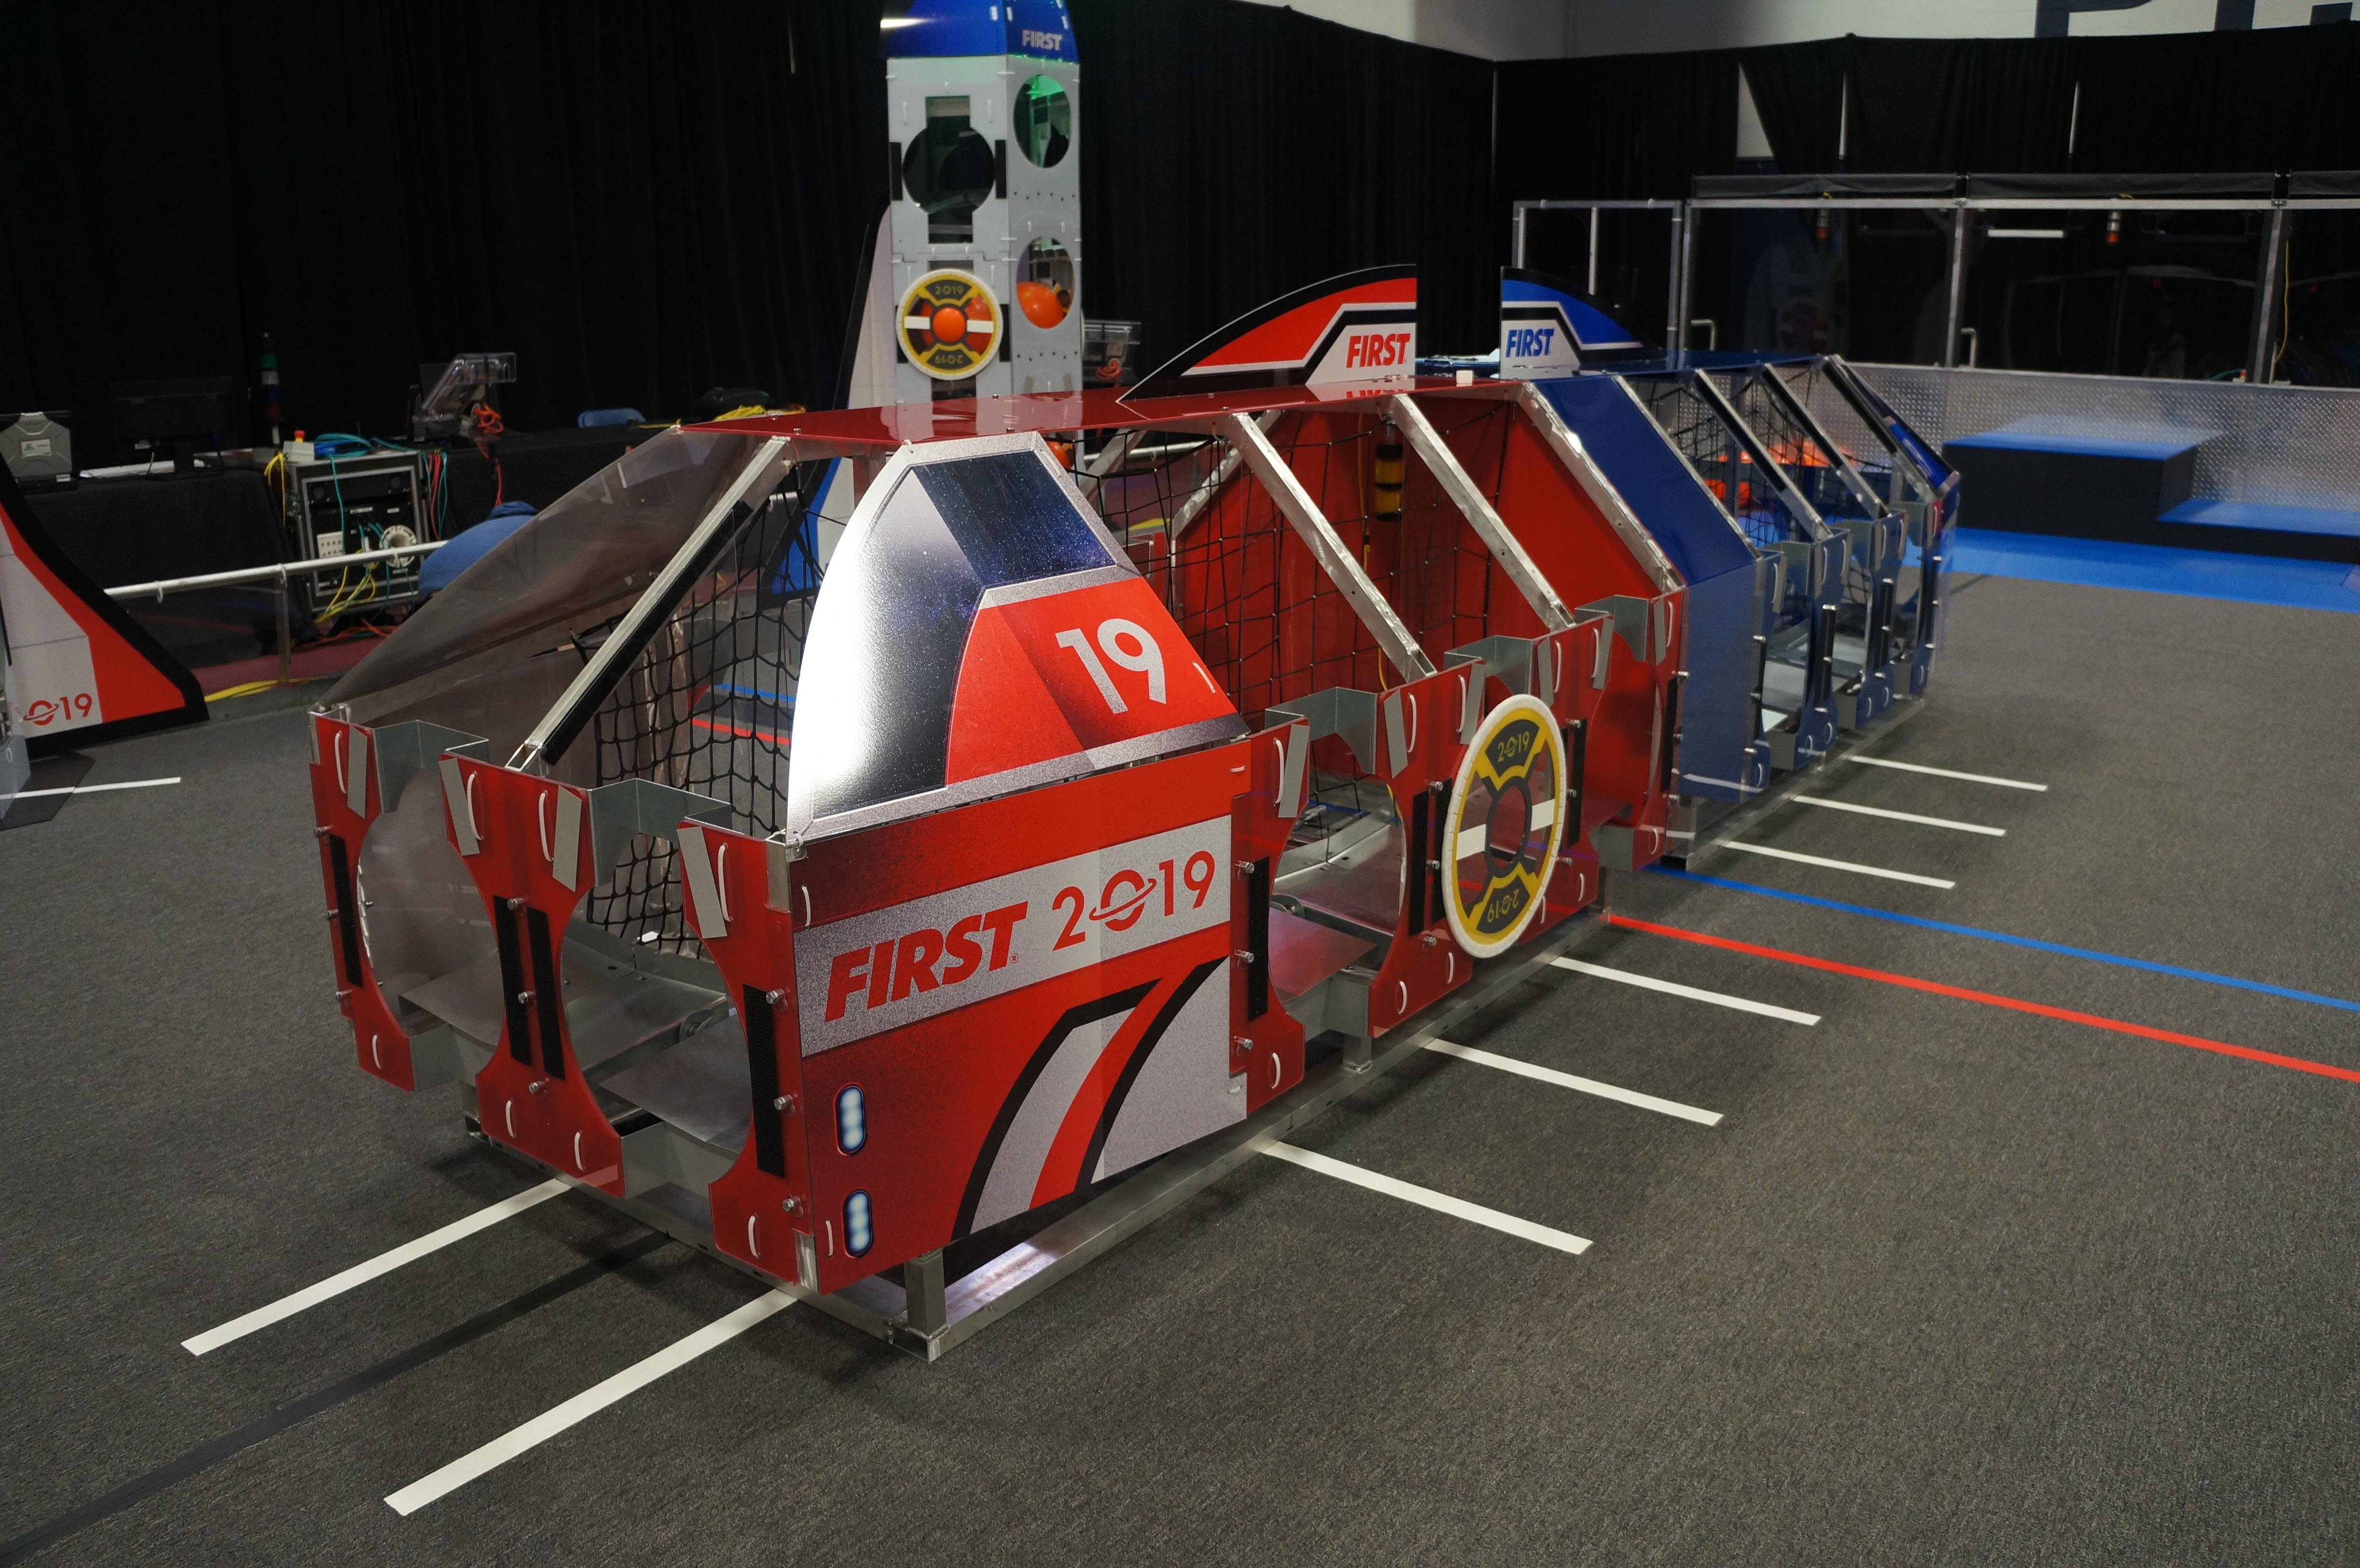Ball: (917, 287, 987, 364), (1013, 280, 1065, 334)
Hatch: (1440, 691, 1571, 961), (901, 268, 1001, 381)
Tape: (672, 824, 731, 941), (434, 754, 481, 859), (546, 784, 586, 894), (1275, 723, 1316, 821), (1379, 689, 1410, 777), (1459, 663, 1491, 742), (345, 726, 369, 819), (1592, 619, 1623, 689), (1534, 635, 1555, 709), (1651, 600, 1671, 668)
